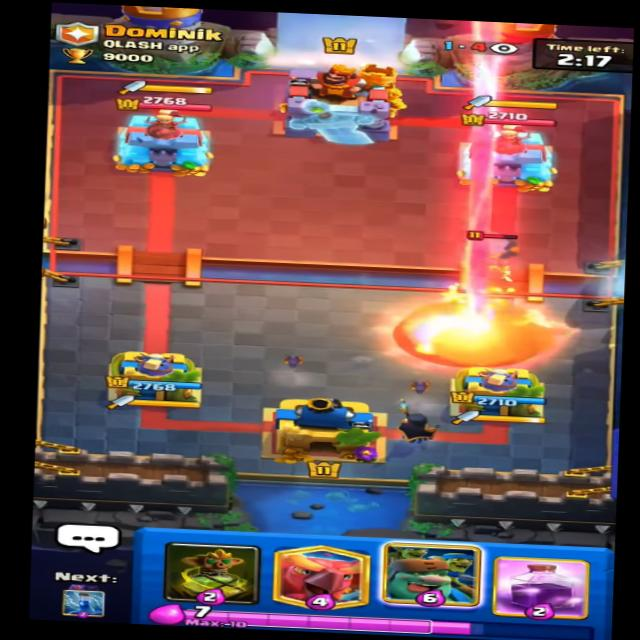Void: (391, 299, 547, 376)
Wizard: (457, 239, 511, 286)
